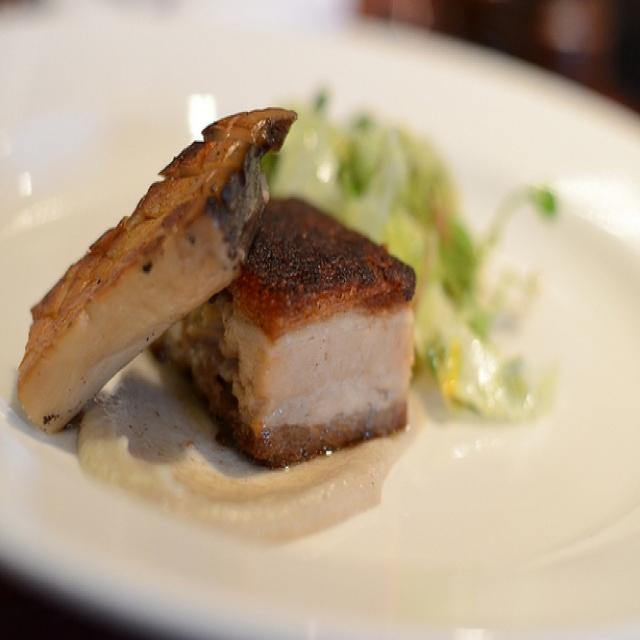牛肉菜式: (16, 63, 462, 552)
